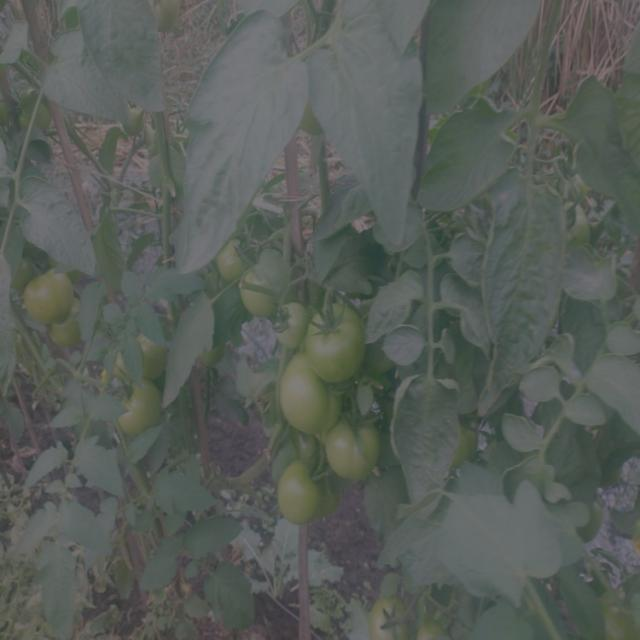tomato: (307, 301, 372, 376), (280, 354, 337, 433), (108, 377, 171, 432), (324, 411, 376, 475), (278, 458, 326, 523), (23, 264, 77, 320), (111, 321, 167, 370), (364, 591, 406, 640), (265, 304, 305, 345), (245, 260, 273, 314), (219, 236, 249, 282), (50, 321, 81, 357), (411, 609, 447, 640), (10, 259, 36, 283)
